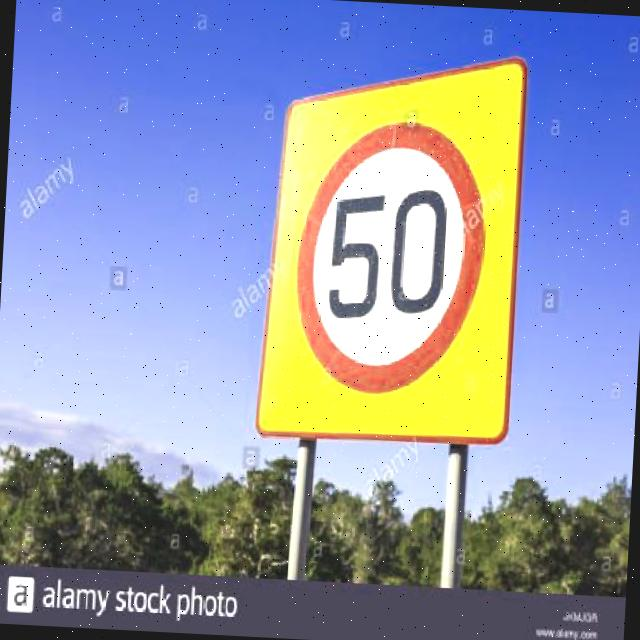Ograniczenie predkosci do 50: (292, 132, 490, 384)
